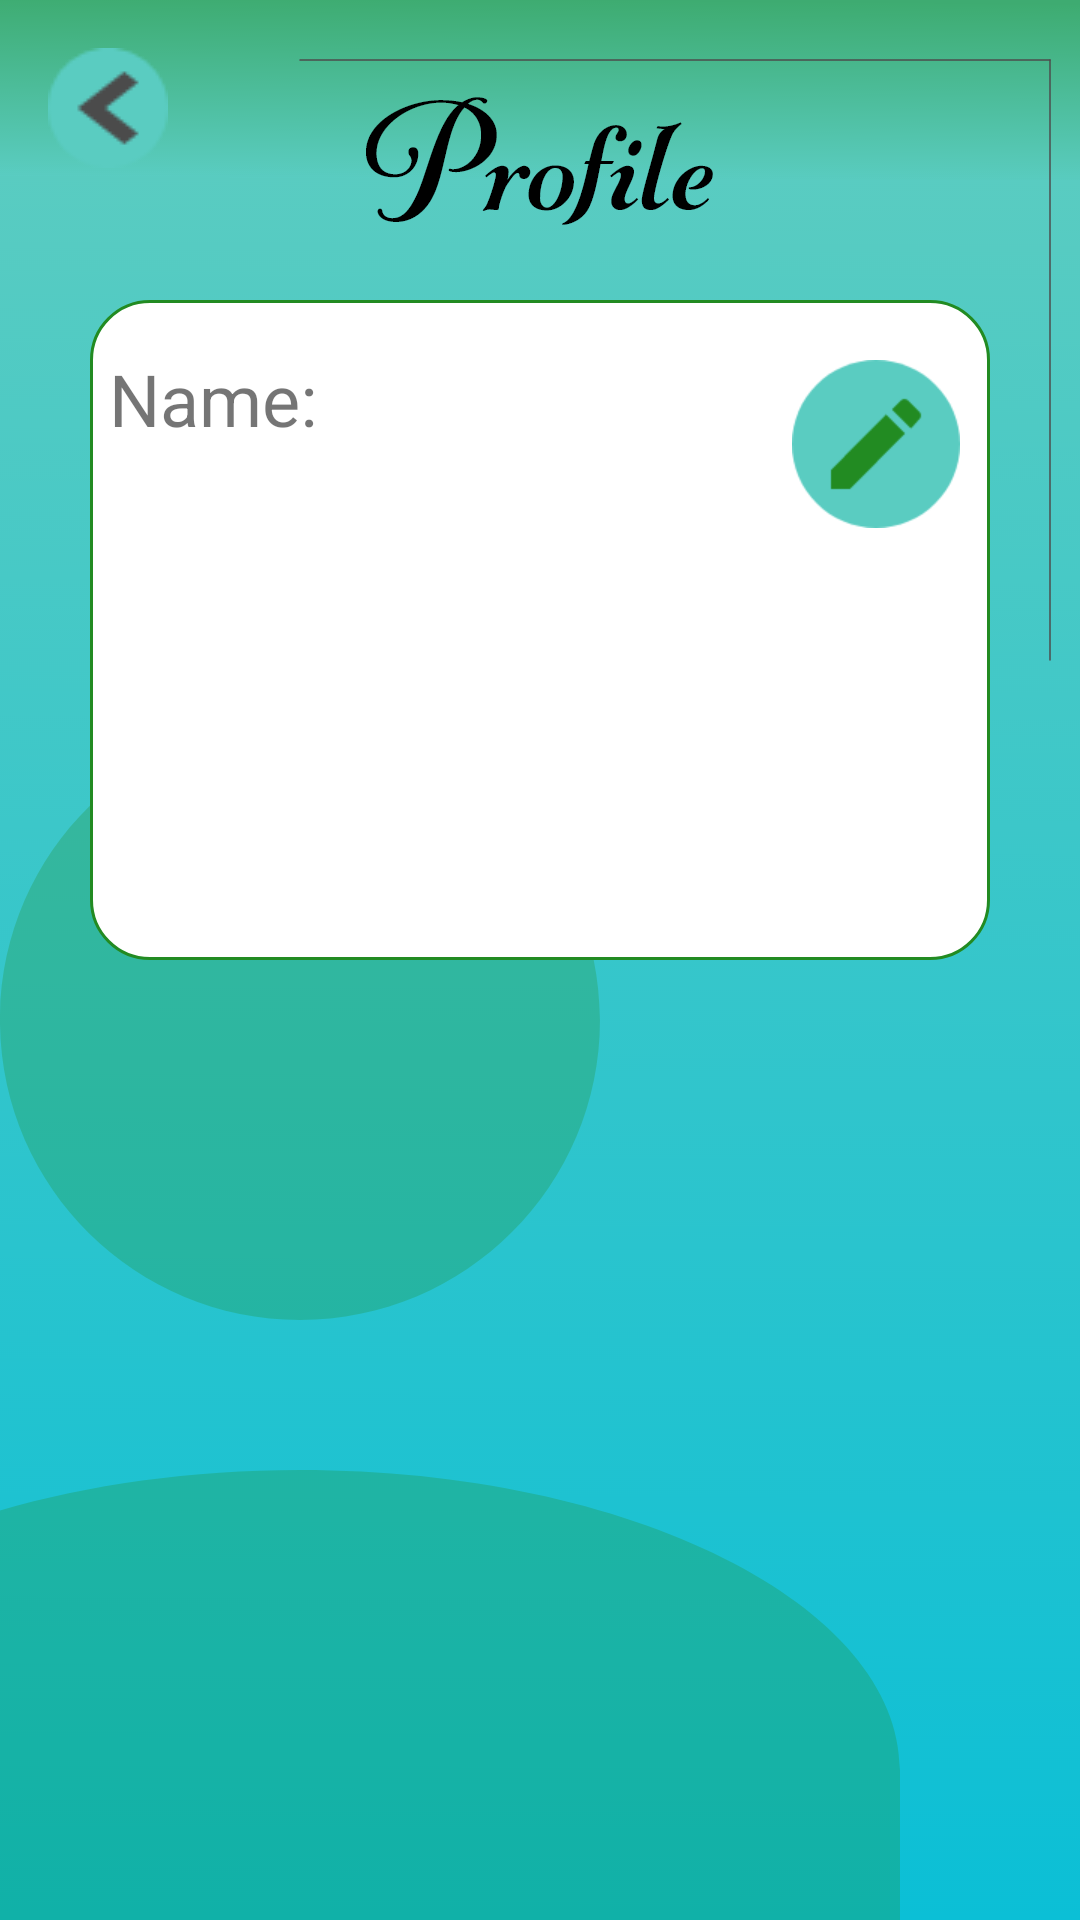

Icon click points for this 1080w x 1920h phone screenshot, format point (x, y):
back arrow: point (108, 108)
